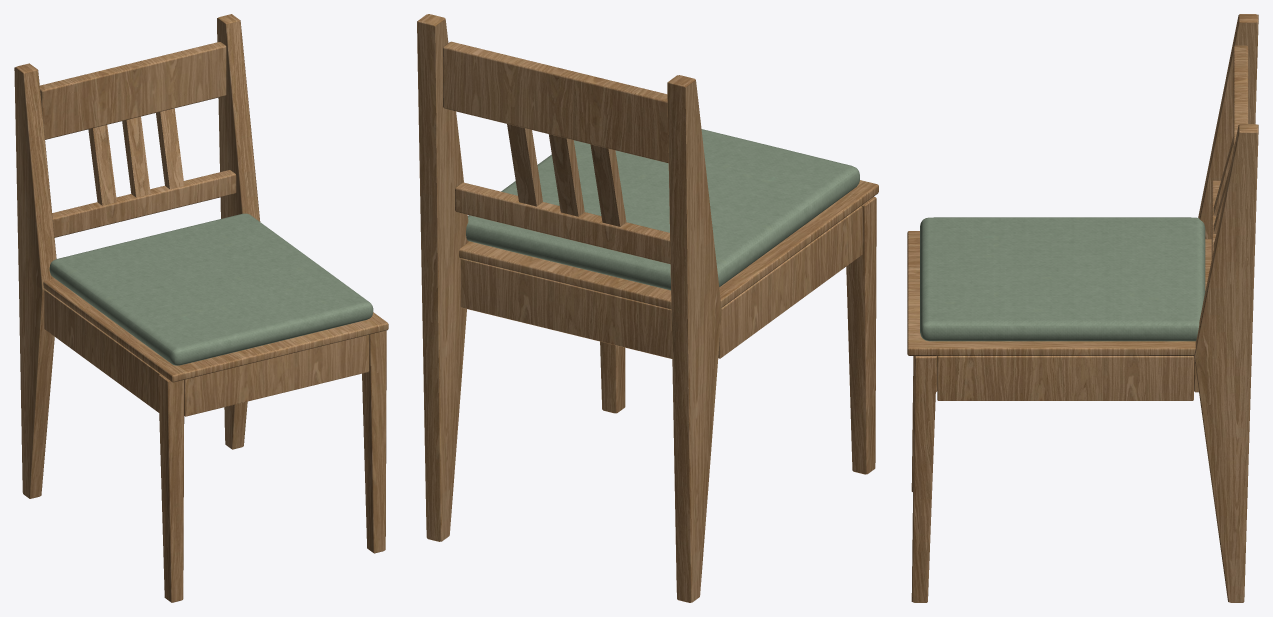
Rendered from ap_dining_chair.fbx.
3 renders of one model, left to right at view 1: azimuth 30°, elevation 25°; view 2: azimuth 150°, elevation 25°; view 3: azimuth 270°, elevation 25°, orthographic. The views are drawn at different scales.
Parts seen in each view (by area): view 1: ap_dining_chair; view 2: ap_dining_chair; view 3: ap_dining_chair.
Part boxes in pixels (x1=…): ap_dining_chair: x1=14, y1=14, x2=388, y2=602; ap_dining_chair: x1=417, y1=14, x2=878, y2=602; ap_dining_chair: x1=907, y1=14, x2=1258, y2=602.
Bounding box in the file's own units: 0.456 × 0.84 × 0.5659.
Materials: 2 (2 with a texture image).
